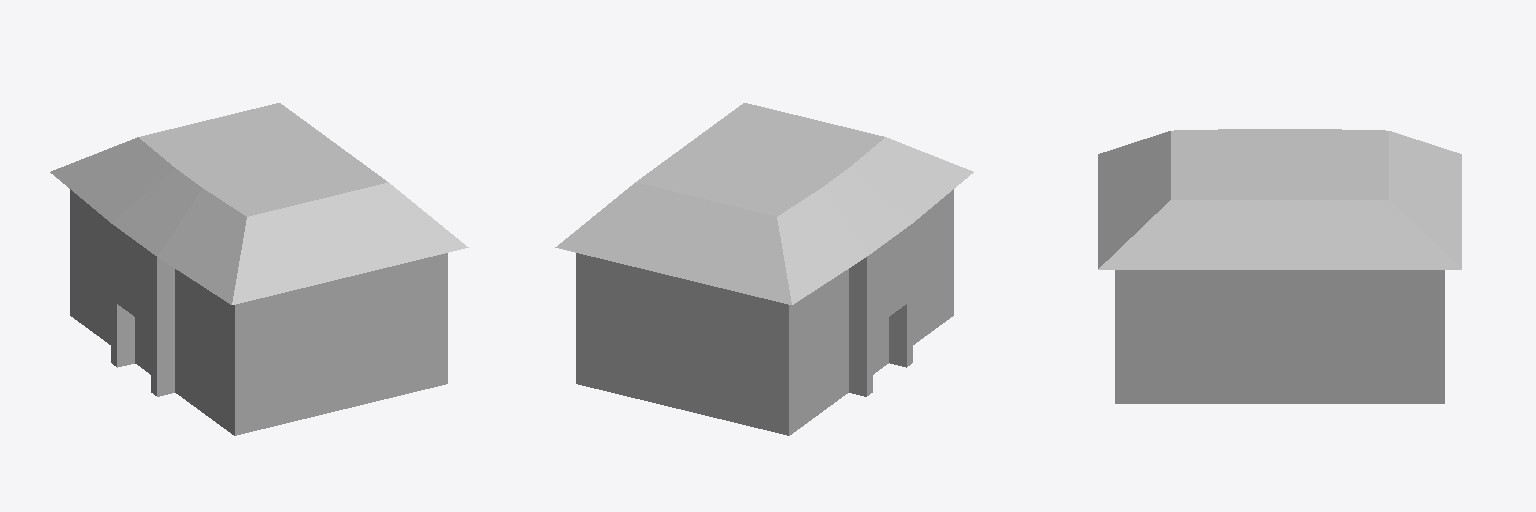
The model's file is Library_Level1.obj.
3 renders of one model, left to right at view 1: azimuth 30°, elevation 25°; view 2: azimuth 150°, elevation 25°; view 3: azimuth 270°, elevation 25°, orthographic.
Parts seen in each view (by area): view 1: Object001; view 2: Object001; view 3: Object001.
Part boxes in pixels (x1,y1,x2,y2): Object001: (50, 103, 468, 435); Object001: (555, 103, 973, 435); Object001: (1098, 129, 1461, 403).
Bounding box in the file's own units: 436 × 324 × 567.